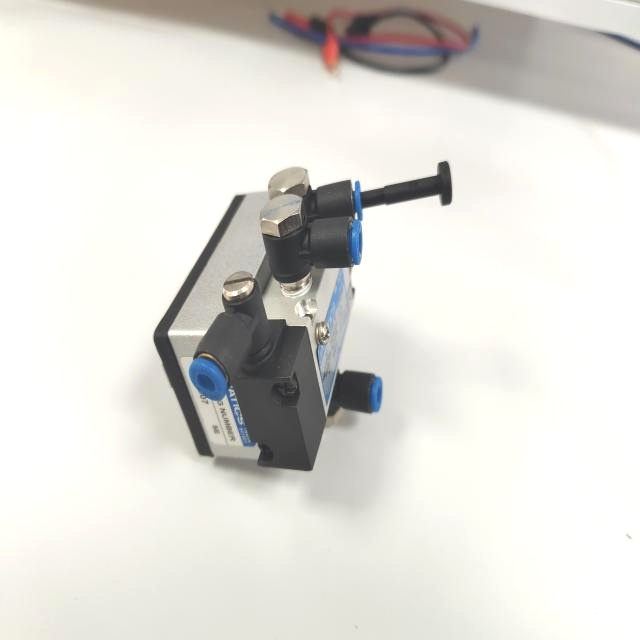5by2 DCV: (148, 153, 464, 484)
